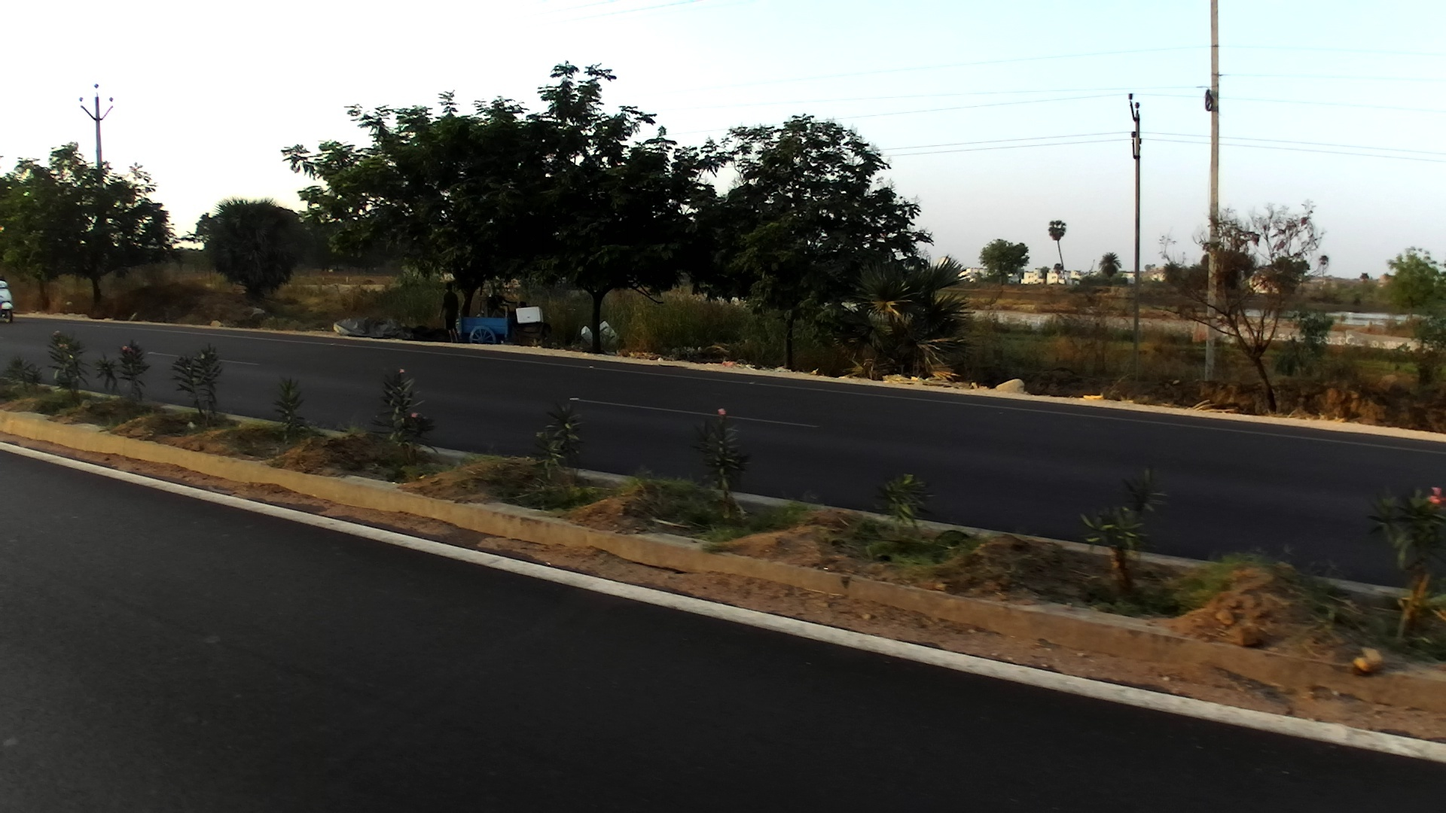motorcycle: (2, 279, 17, 325)
person: (438, 282, 465, 346)
rider: (485, 284, 517, 319)
vehicle fallback: (452, 290, 538, 347)
